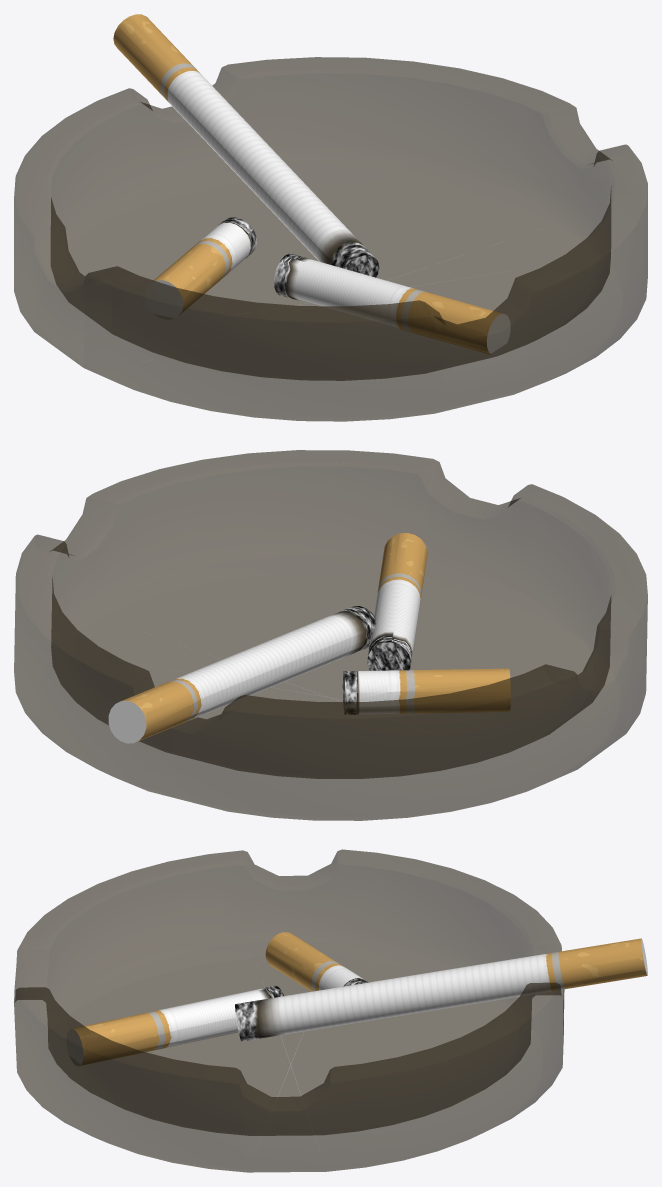
The model's file is Ashtray.FBX.
3 renders of one model, top to bottom at view 1: azimuth 30°, elevation 25°; view 2: azimuth 150°, elevation 25°; view 3: azimuth 270°, elevation 25°, orthographic. The views are drawn at different scales.
Parts seen in each view (by area): view 1: ashtray, cigarette 1, cigarette 3, cigarette 2; view 2: ashtray, cigarette 1, cigarette 2, cigarette 3; view 3: ashtray, cigarette 1, cigarette 3, cigarette 2.
Boxes of the visible parts, <box> form: ashtray: <box>14,57,647,421</box>; cigarette 1: <box>113,14,379,277</box>; cigarette 3: <box>274,253,510,355</box>; cigarette 2: <box>145,217,256,319</box>; ashtray: <box>14,450,647,820</box>; cigarette 1: <box>108,606,376,743</box>; cigarette 2: <box>342,668,510,714</box>; cigarette 3: <box>367,533,427,670</box>; ashtray: <box>14,849,564,1172</box>; cigarette 1: <box>235,938,647,1041</box>; cigarette 3: <box>66,986,283,1065</box>; cigarette 2: <box>265,932,368,991</box>.
Bounding box in the file's own units: 251 × 284 × 62.65.
2 materials, 1 textured.
